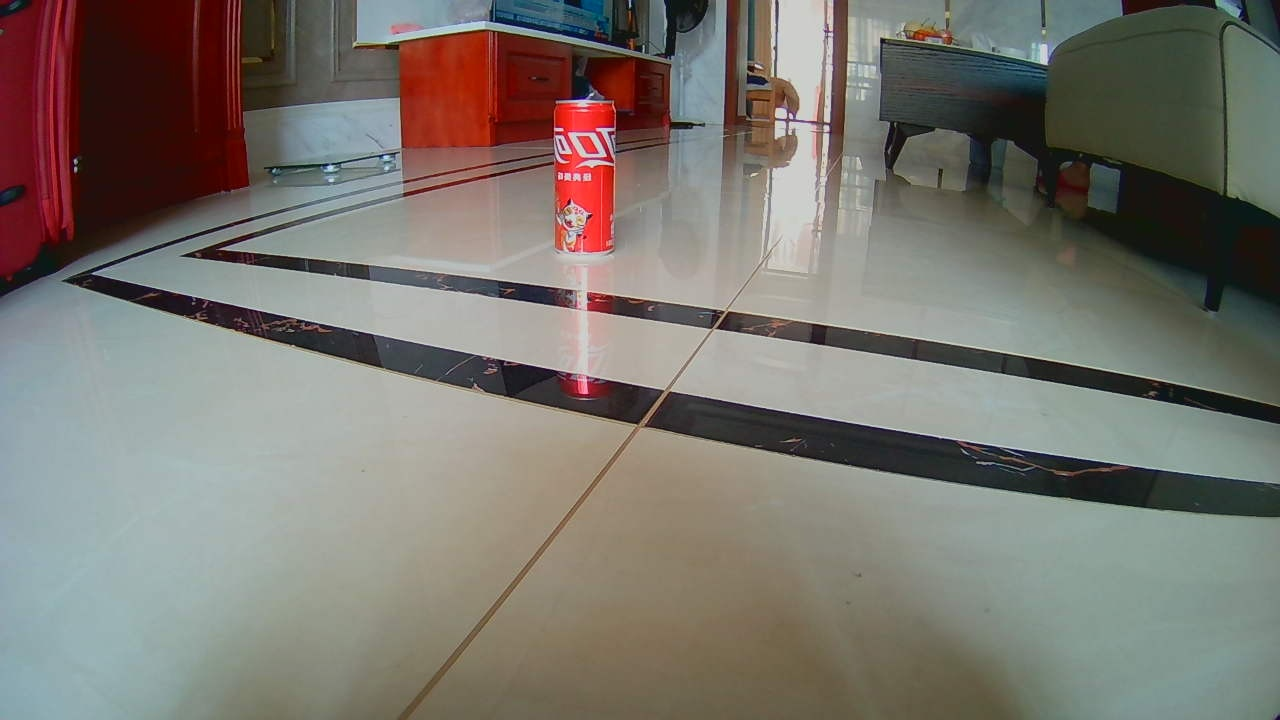cola: (547, 92, 615, 254)
